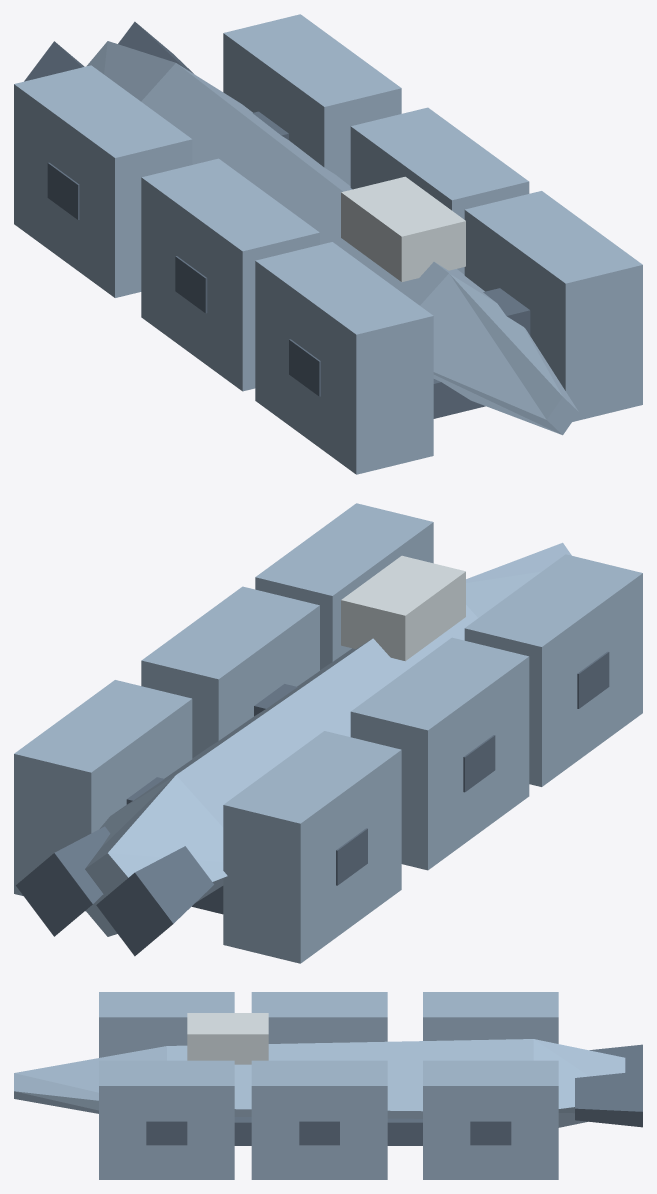
3 views of the same model, one above another, from view 1: azimuth 30°, elevation 25°; view 2: azimuth 150°, elevation 25°; view 3: azimuth 270°, elevation 25° (orthographic). The views are drawn at different scales.
Bounding box in the file's own units: 3.67 × 1.97 × 10.28.
